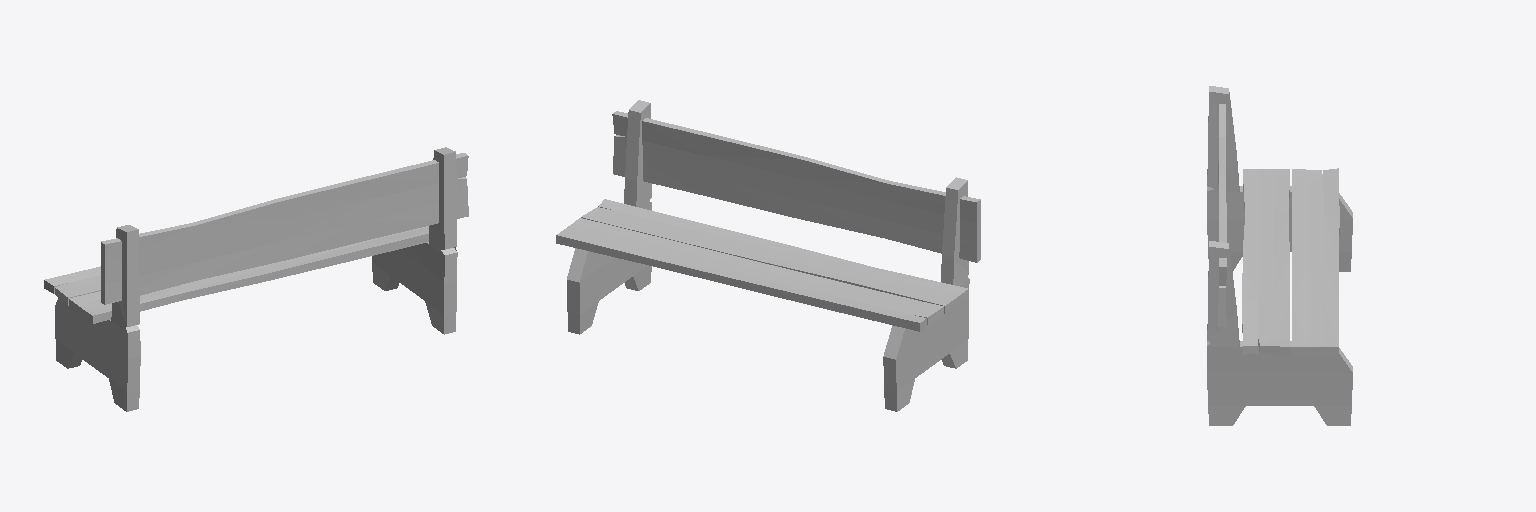
Rendered from Banca_Texturizada.obj.
The picture shows the model from 3 angles: view 1: azimuth 30°, elevation 25°; view 2: azimuth 150°, elevation 25°; view 3: azimuth 270°, elevation 25°; orthographic projection.
Visible parts, largest first — view 1: banca_larga_madera_Material.001; view 2: banca_larga_madera_Material.001; view 3: banca_larga_madera_Material.001.
Part boxes in pixels (bbox=[...]): banca_larga_madera_Material.001: bbox=[44, 147, 468, 411]; banca_larga_madera_Material.001: bbox=[556, 100, 980, 411]; banca_larga_madera_Material.001: bbox=[1207, 86, 1352, 425].
Size of the model in its own units: 12.41 by 5.86 by 4.32.